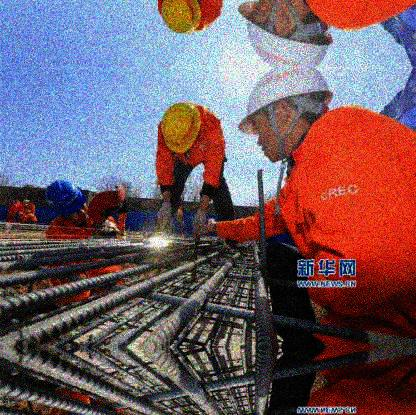helmet: (240, 66, 340, 163), (240, 1, 338, 67), (43, 180, 91, 226), (163, 102, 202, 157)
